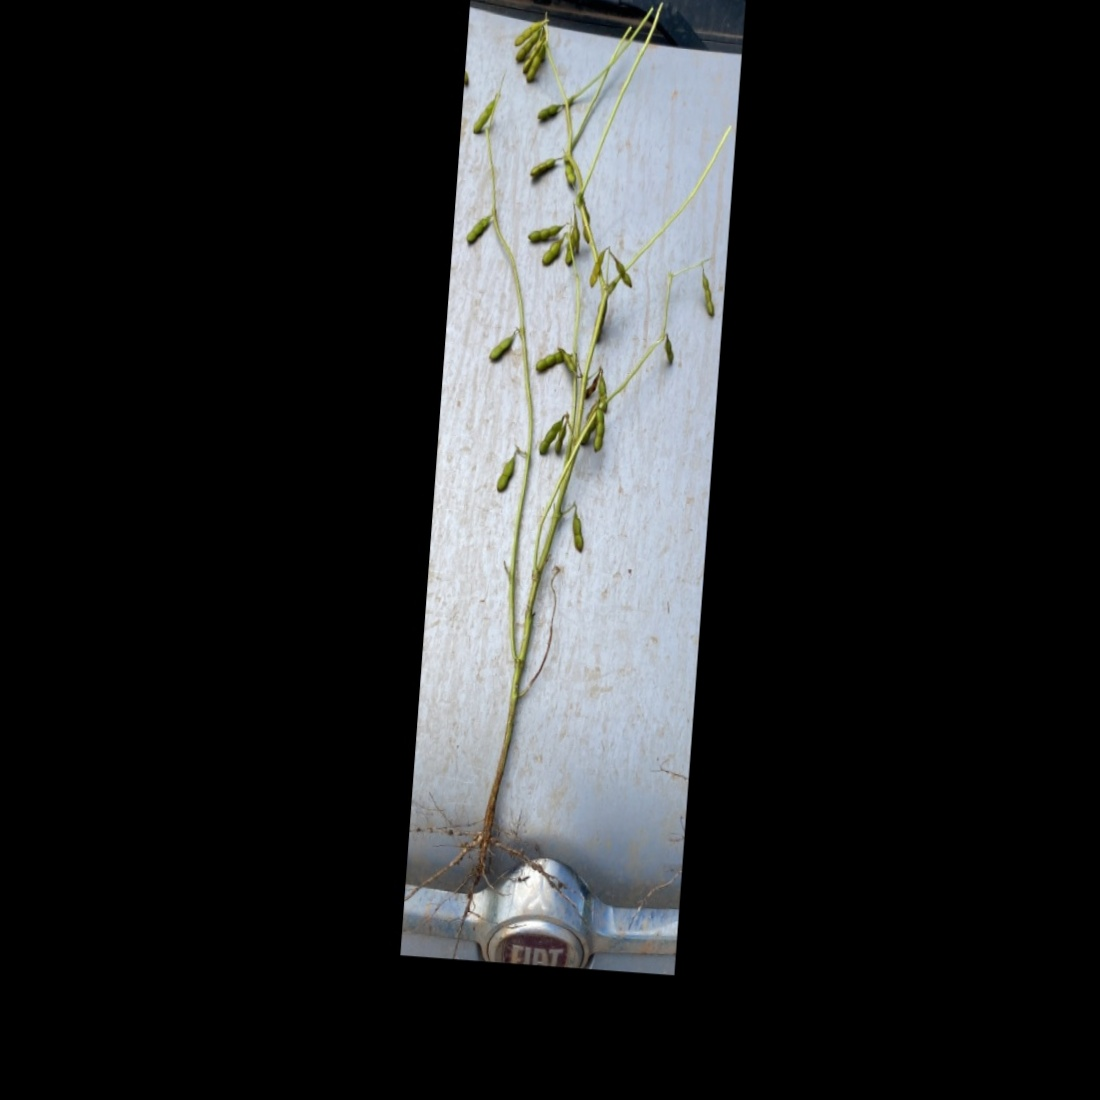pod: (566, 500, 592, 557), (494, 443, 523, 495), (695, 269, 719, 319), (535, 417, 563, 459), (520, 218, 564, 244), (608, 249, 638, 288), (586, 246, 610, 292), (531, 345, 567, 375), (463, 211, 492, 247), (555, 343, 582, 381), (591, 401, 607, 462), (486, 332, 516, 364), (471, 96, 494, 135), (528, 153, 559, 179), (531, 100, 562, 125), (538, 238, 562, 269), (559, 159, 580, 187), (553, 423, 569, 459), (662, 333, 679, 367)
soy: (409, 0, 741, 922)
